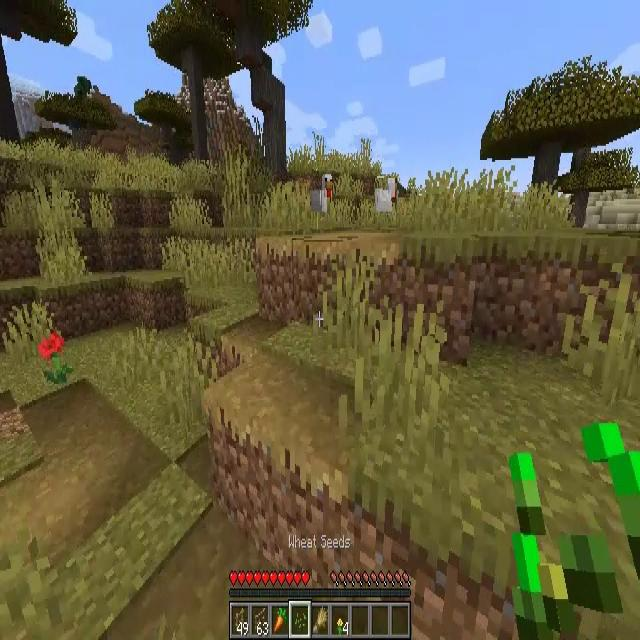duck: (310, 174, 332, 230), (375, 178, 397, 230)
